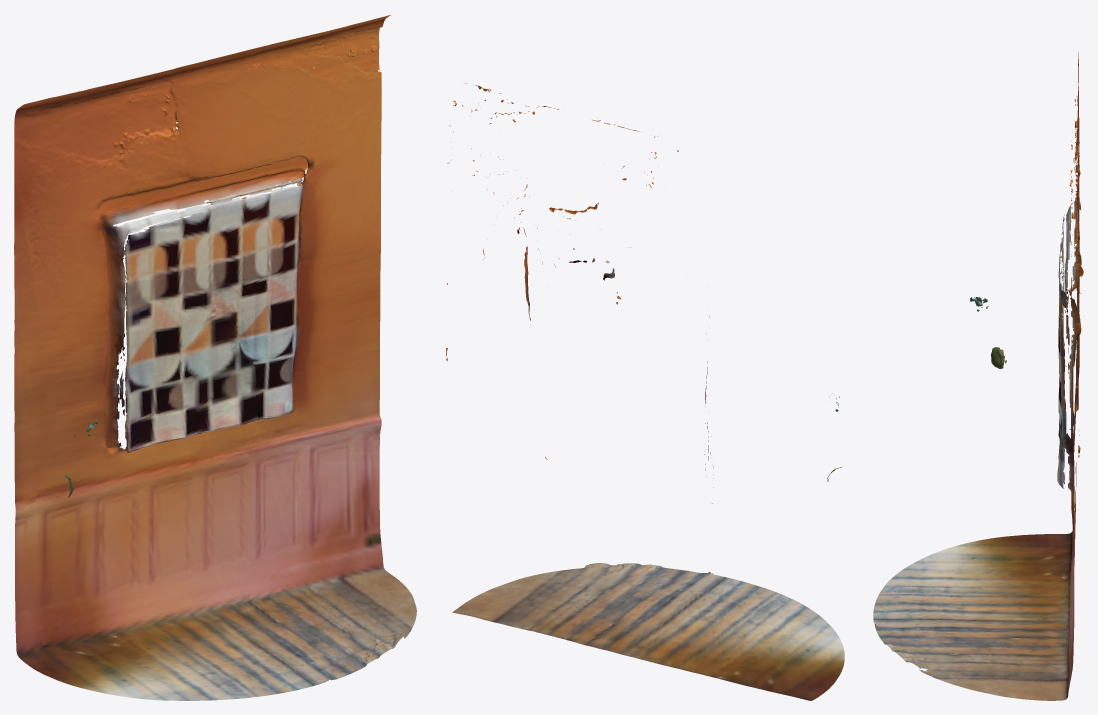
File: Scaniverse 2022-07-29 100117.glb
The picture shows the model from 3 angles, left to right: view 1: azimuth 30°, elevation 25°; view 2: azimuth 150°, elevation 25°; view 3: azimuth 270°, elevation 25°; orthographic projection. The views are drawn at different scales.
Parts seen in each view (by area): view 1: mesh; view 2: mesh; view 3: mesh.
Part boxes in pixels (x1,y1,x2,y2): mesh: (14, 15, 416, 700); mesh: (446, 83, 844, 700); mesh: (873, 52, 1083, 700).
Size of the model in its own units: 2.99 by 4.4 by 1.6.
Materials: 1 (1 with a texture image).
